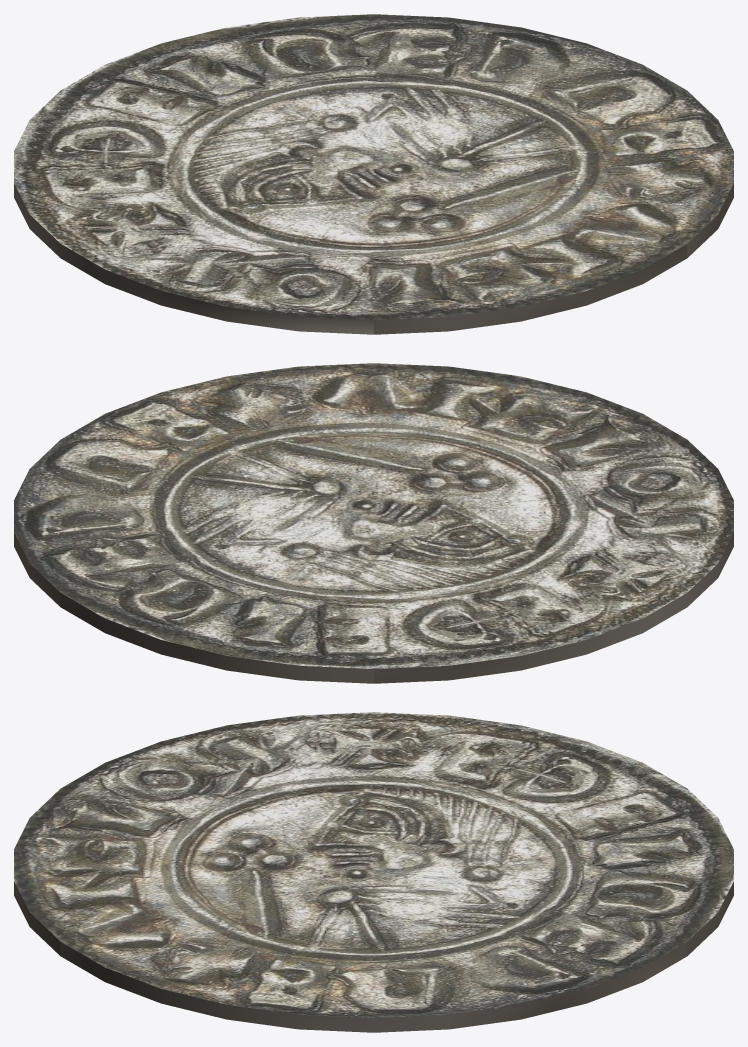
The model's file is Coin.fbx.
3 views of the same model, one above another, from view 1: azimuth 30°, elevation 25°; view 2: azimuth 150°, elevation 25°; view 3: azimuth 270°, elevation 25° (orthographic).
Parts seen in each view (by area): view 1: Coin; view 2: Coin; view 3: Coin.
Part boxes in pixels (x1,y1,x2,y2): Coin: (14, 14, 733, 334); Coin: (14, 363, 733, 683); Coin: (14, 712, 733, 1032).
Bounding box in the file's own units: 4.34 × 0.097 × 4.32.
Materials: 1 (1 with a texture image).
